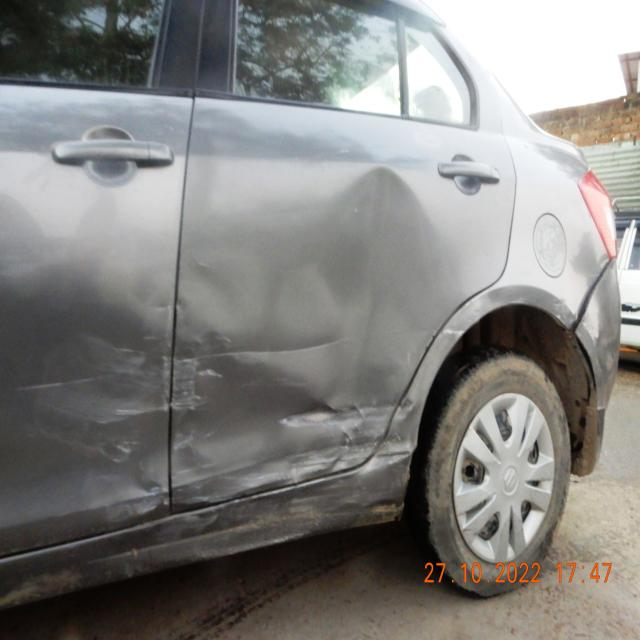damage: (2, 489, 403, 603), (174, 323, 397, 484), (65, 304, 167, 524), (330, 159, 433, 288), (383, 399, 419, 471), (588, 304, 616, 378), (553, 296, 571, 326)
